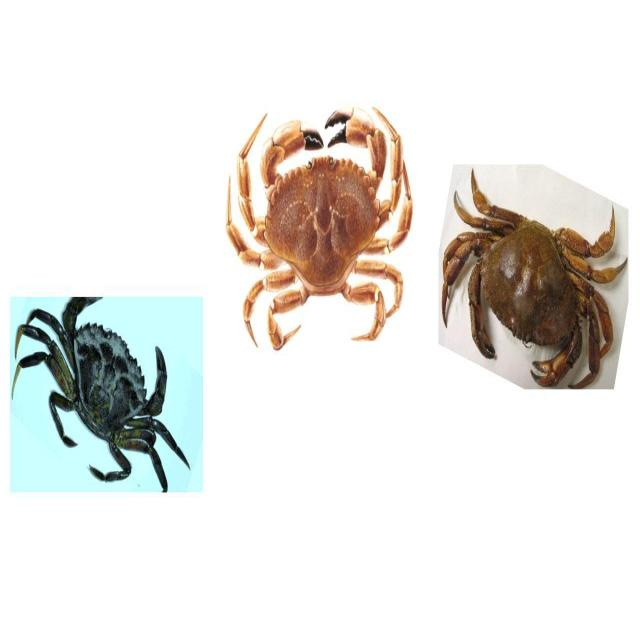egc: (12, 296, 190, 492)
